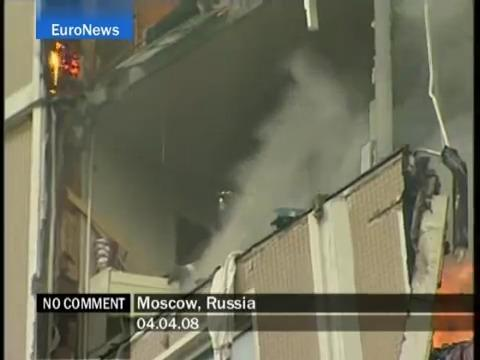fire: (47, 39, 84, 91)
